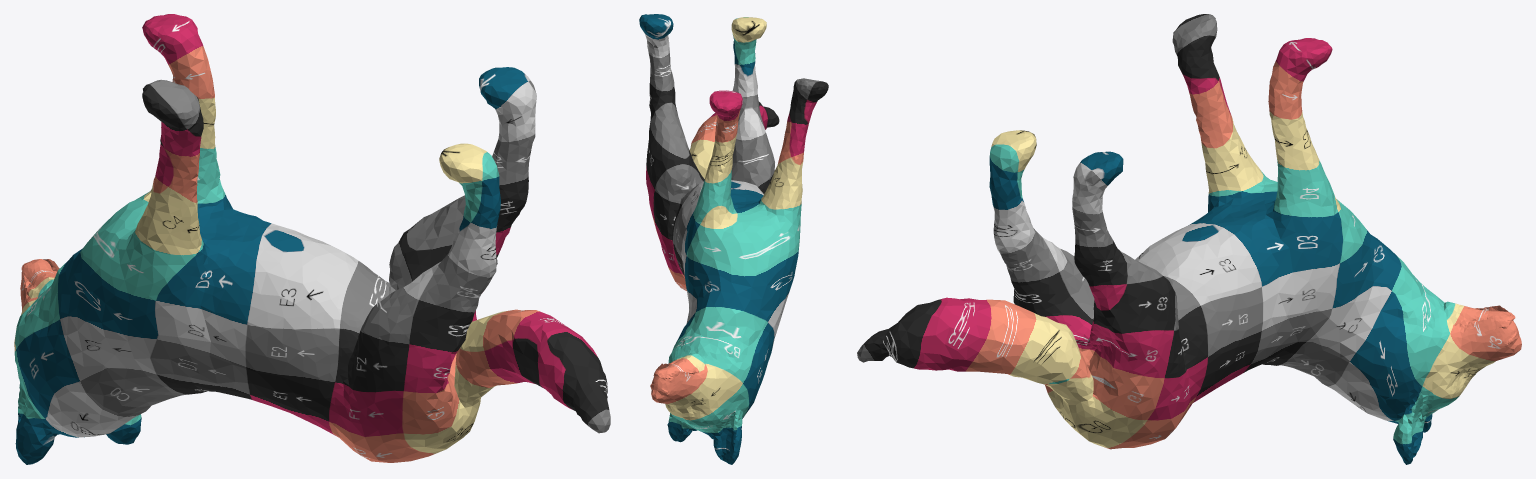
The model's file is horse_04-dog_01.obj.
3 renders of one model, left to right at view 1: azimuth 30°, elevation 25°; view 2: azimuth 150°, elevation 25°; view 3: azimuth 270°, elevation 25°, orthographic. The views are drawn at different scales.
Parts seen in each view (by area): view 1: horse_04-dog_01_export; view 2: horse_04-dog_01_export; view 3: horse_04-dog_01_export.
Part boxes in pixels (<box>): horse_04-dog_01_export: <box>14,14,610,464</box>; horse_04-dog_01_export: <box>639,14,828,464</box>; horse_04-dog_01_export: <box>857,14,1521,464</box>.
Bounding box in the file's own units: 0.5287 × 0.7141 × 1.03.
